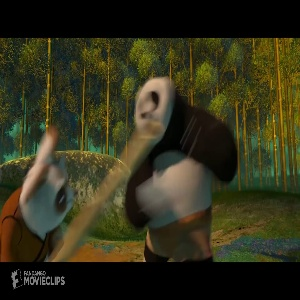po: (124, 73, 240, 261)
shifu: (1, 124, 75, 261)
